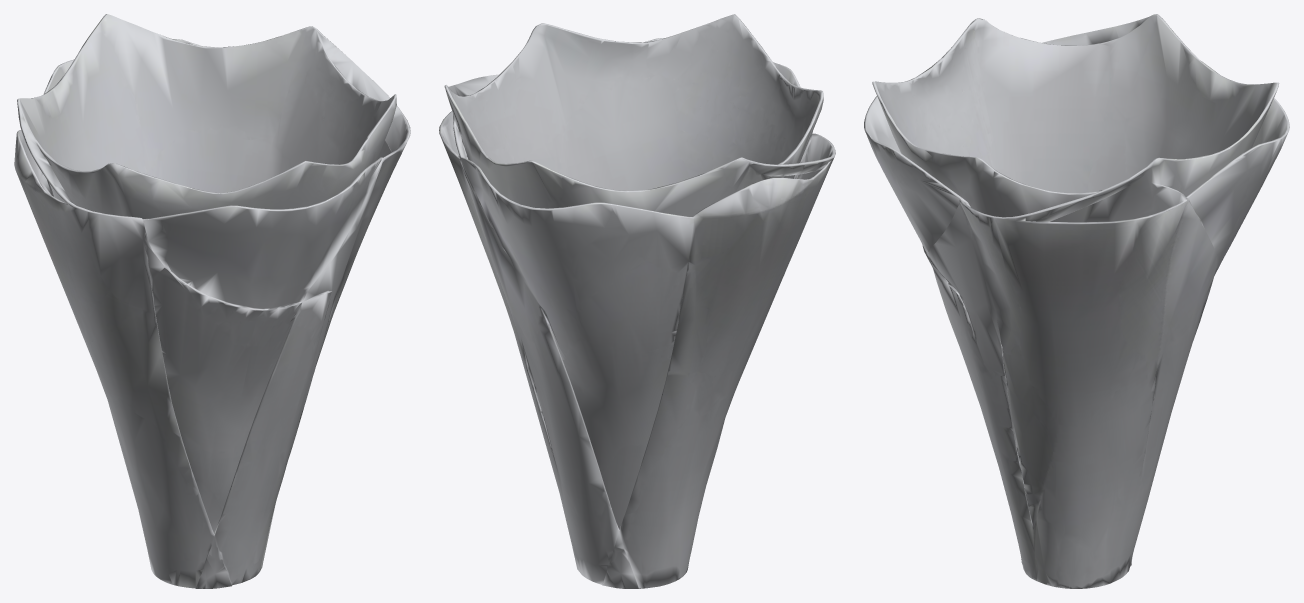
Rendered from fl-wrap-matte-sleeve.glb.
3 renders of one model, left to right at view 1: azimuth 30°, elevation 25°; view 2: azimuth 150°, elevation 25°; view 3: azimuth 270°, elevation 25°, orthographic.
Visible parts, largest first — view 1: node_0; view 2: node_0; view 3: node_0.
Boxes of the visible parts, x1=… form: node_0: x1=14, y1=14, x2=410, y2=588; node_0: x1=439, y1=14, x2=835, y2=588; node_0: x1=864, y1=14, x2=1289, y2=588.
Bounding box in the file's own units: 0.7131 × 0.9512 × 0.7602.
Materials: 1 (1 with a texture image).
